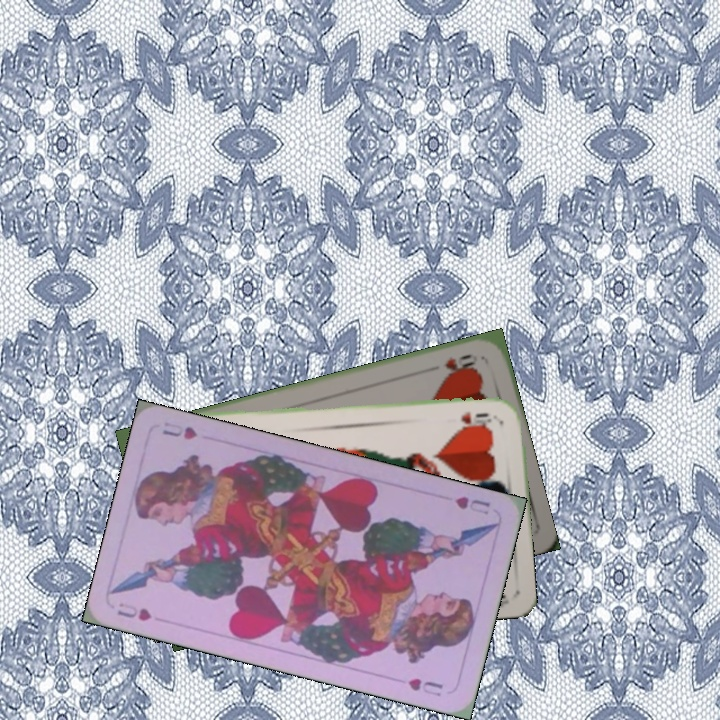HO: (441, 350, 478, 377), (457, 407, 498, 426)
HU: (451, 492, 493, 518), (113, 599, 155, 624)
